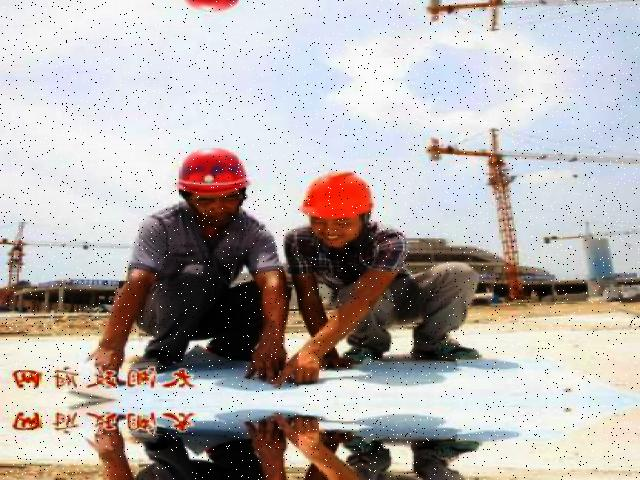Helmet: (173, 142, 256, 202), (298, 165, 379, 226)
